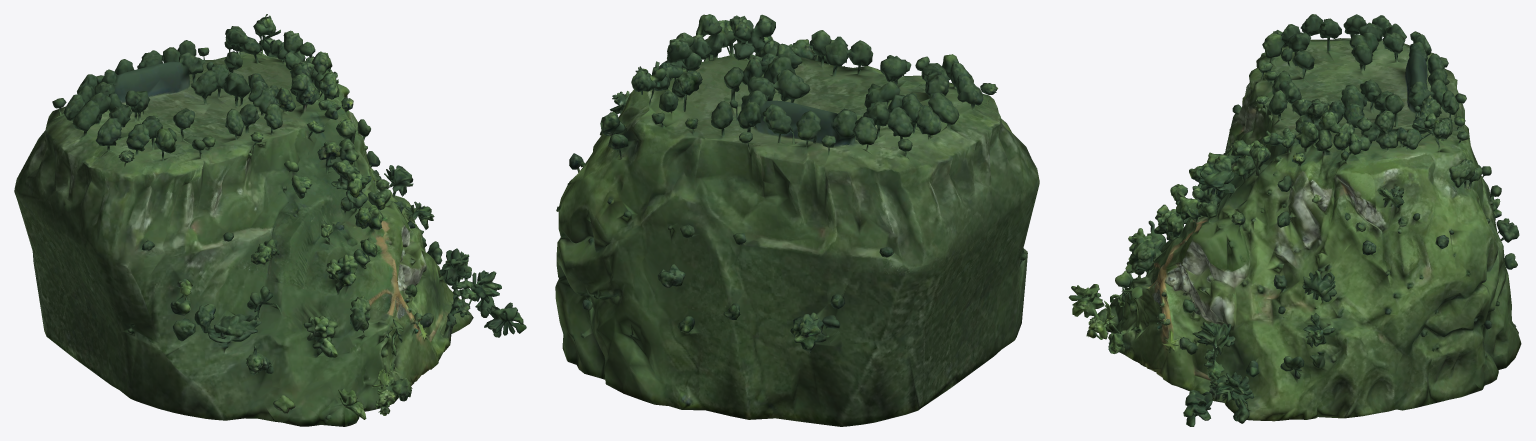
Rendered from forested-ridge.glb.
3 renders of one model, left to right at view 1: azimuth 30°, elevation 25°; view 2: azimuth 150°, elevation 25°; view 3: azimuth 270°, elevation 25°, orthographic. The views are drawn at different scales.
Parts seen in each view (by area): view 1: tripo_node_4b24286c-ef78-461c-be01-7d924e72b280; view 2: tripo_node_4b24286c-ef78-461c-be01-7d924e72b280; view 3: tripo_node_4b24286c-ef78-461c-be01-7d924e72b280.
Boxes of the visible parts, x1,y1,x2,y2 form: tripo_node_4b24286c-ef78-461c-be01-7d924e72b280: (14,14,526,426); tripo_node_4b24286c-ef78-461c-be01-7d924e72b280: (555,14,1039,426); tripo_node_4b24286c-ef78-461c-be01-7d924e72b280: (1068,14,1521,426).
Bounding box in the file's own units: 0.9544 × 0.6107 × 0.9778.
Materials: 1 (1 with a texture image).
